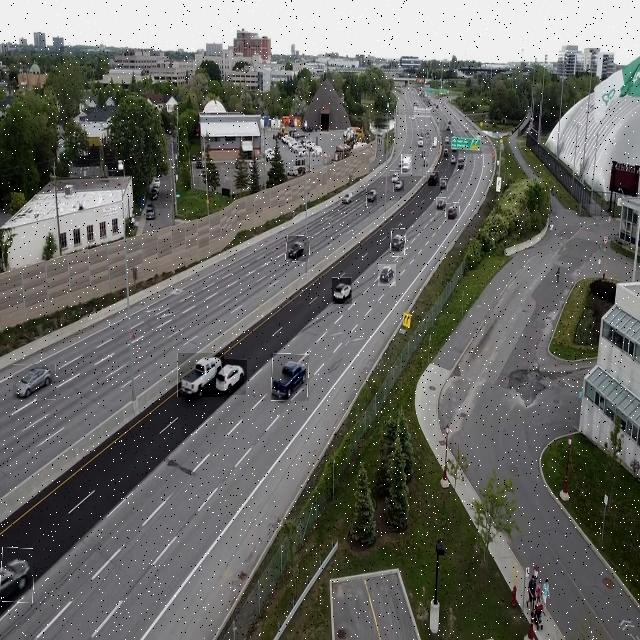Car: (0, 547, 33, 602), (13, 364, 58, 400), (215, 359, 247, 395), (286, 236, 309, 262), (332, 277, 352, 304), (390, 228, 406, 257), (378, 264, 396, 286), (445, 203, 460, 220), (366, 188, 377, 206), (343, 190, 355, 206), (427, 171, 439, 186), (436, 197, 446, 212), (393, 180, 404, 192), (390, 170, 400, 183), (440, 178, 448, 191)
Truck: (177, 353, 224, 397), (271, 354, 309, 401), (401, 154, 412, 174)
